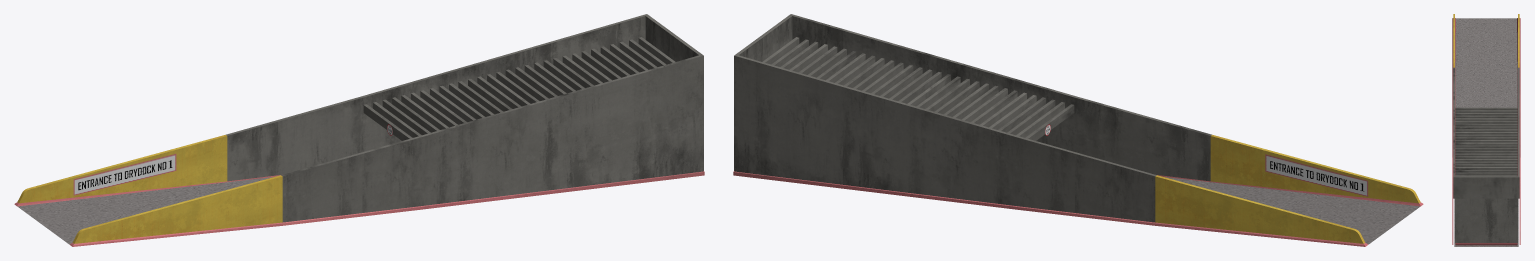
File: tunnel.fbx
3 renders of one model, left to right at view 1: azimuth 30°, elevation 25°; view 2: azimuth 150°, elevation 25°; view 3: azimuth 270°, elevation 25°, orthographic. The views are drawn at different scales.
Parts seen in each view (by area): view 1: tunnel_lo; view 2: tunnel_lo; view 3: tunnel_lo.
Boxes of the visible parts, x1,y1,x2,y2 form: tunnel_lo: [14, 14, 704, 246]; tunnel_lo: [733, 14, 1423, 246]; tunnel_lo: [1452, 14, 1520, 246].
Bounding box in the file's own units: 50 × 9.01 × 8.
